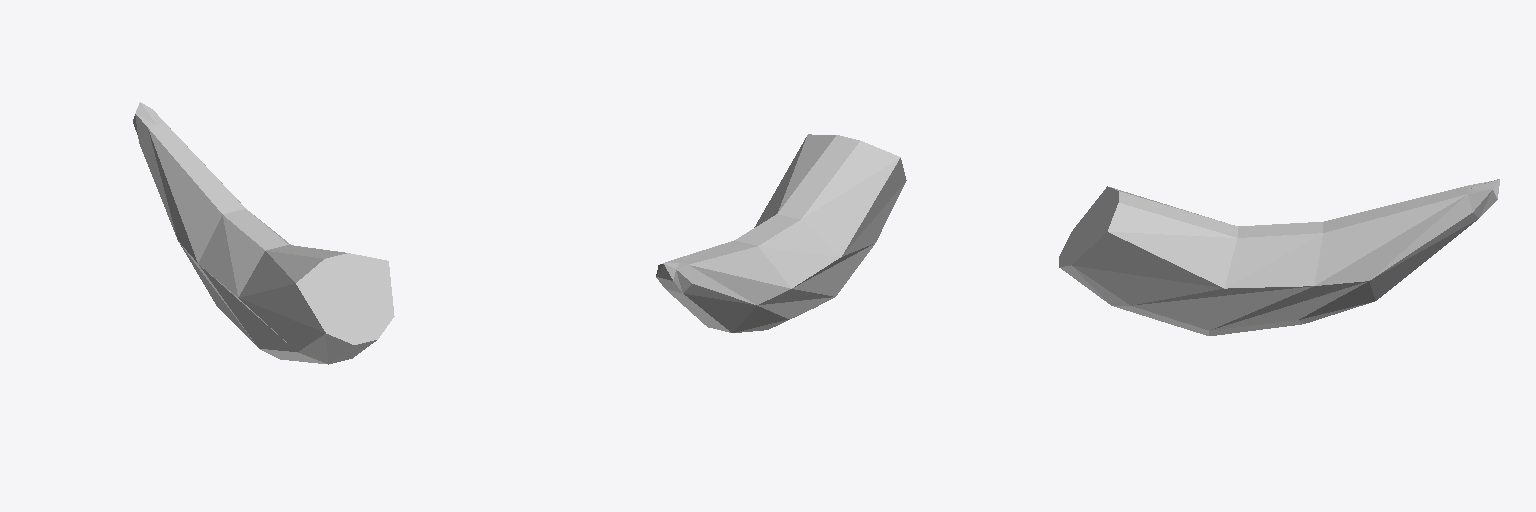
The model's file is Chili-C2.obj.
3 views of the same model, side by side, from view 1: azimuth 30°, elevation 25°; view 2: azimuth 150°, elevation 25°; view 3: azimuth 270°, elevation 25° (orthographic).
Parts seen in each view (by area): view 1: Cube.015; view 2: Cube.015; view 3: Cube.015.
Boxes of the visible parts, box(x1,y1,x2,y2) form: Cube.015: box(133, 102, 394, 364); Cube.015: box(656, 134, 906, 332); Cube.015: box(1059, 179, 1499, 335).
Bounding box in the file's own units: 0.1073 × 0.1645 × 0.44.